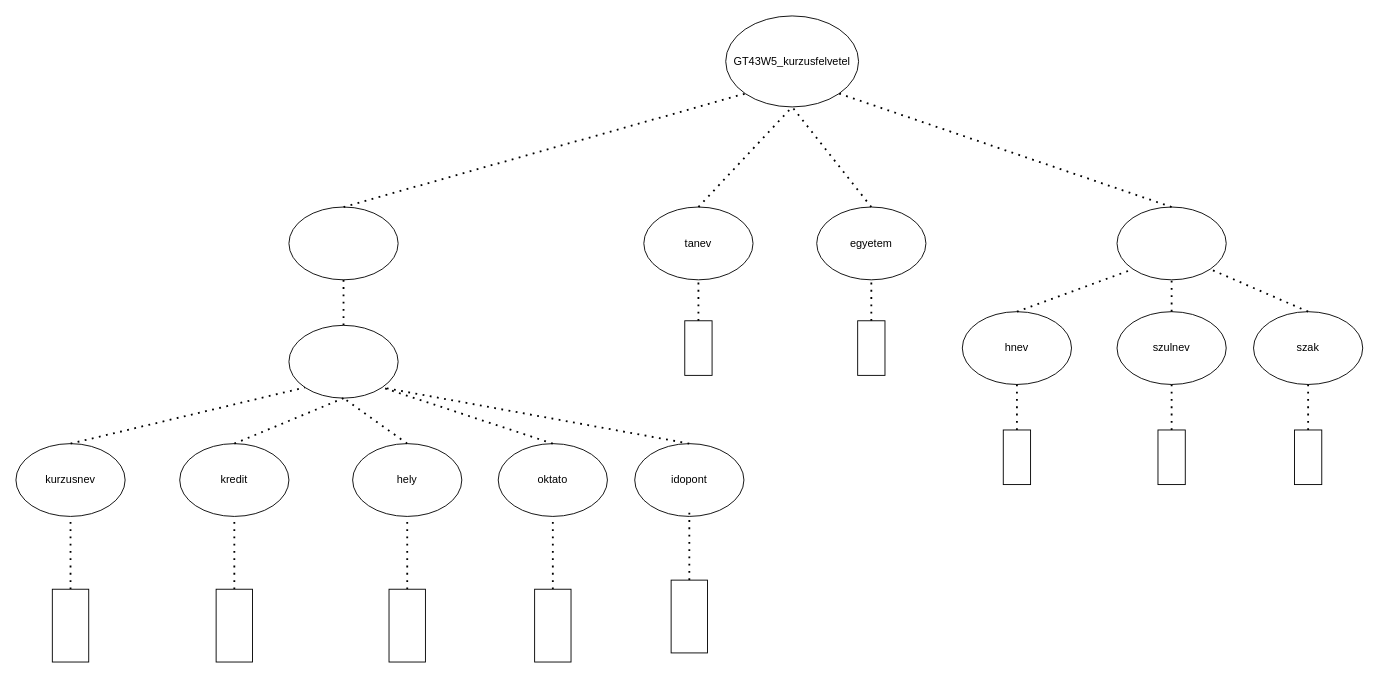
Image size: 1379x678. Some labels were removed from this diagram. The shapes that lost their labels are listed below. From the top down, each one's box as (x1, y1, x2, y2) in pixels, then its label:
(288, 206, 398, 280): kurzusok
(1116, 206, 1226, 280): hallgato
(288, 324, 398, 398): kurzus
